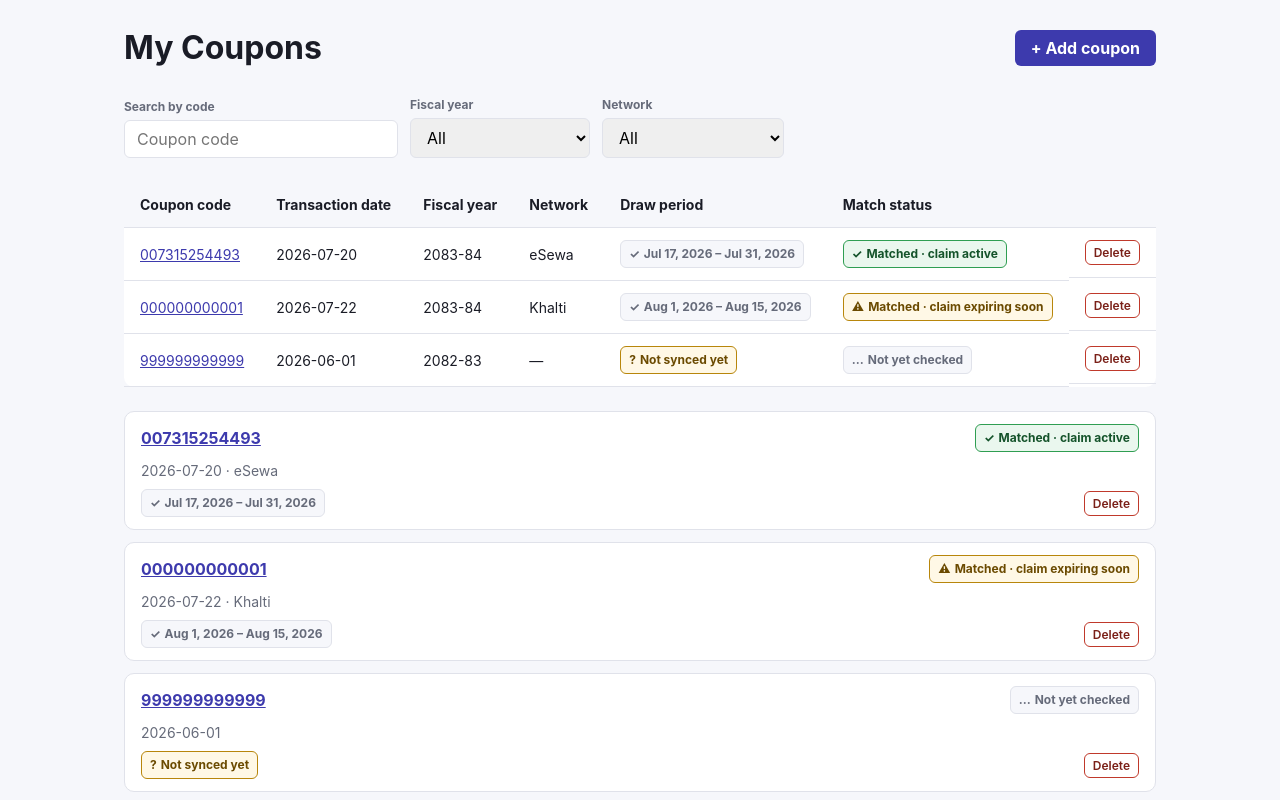
Coupons page › opens the add-coupon modal and adds a new coupon that then appears in the list
Expected: the link "007315254493" below "Coupon code" is shown, x1=140 y1=246 x2=240 y2=262
Click the button "+ Add coupon" at (1085, 48), box x1=1015 y1=30 x2=1156 y2=66
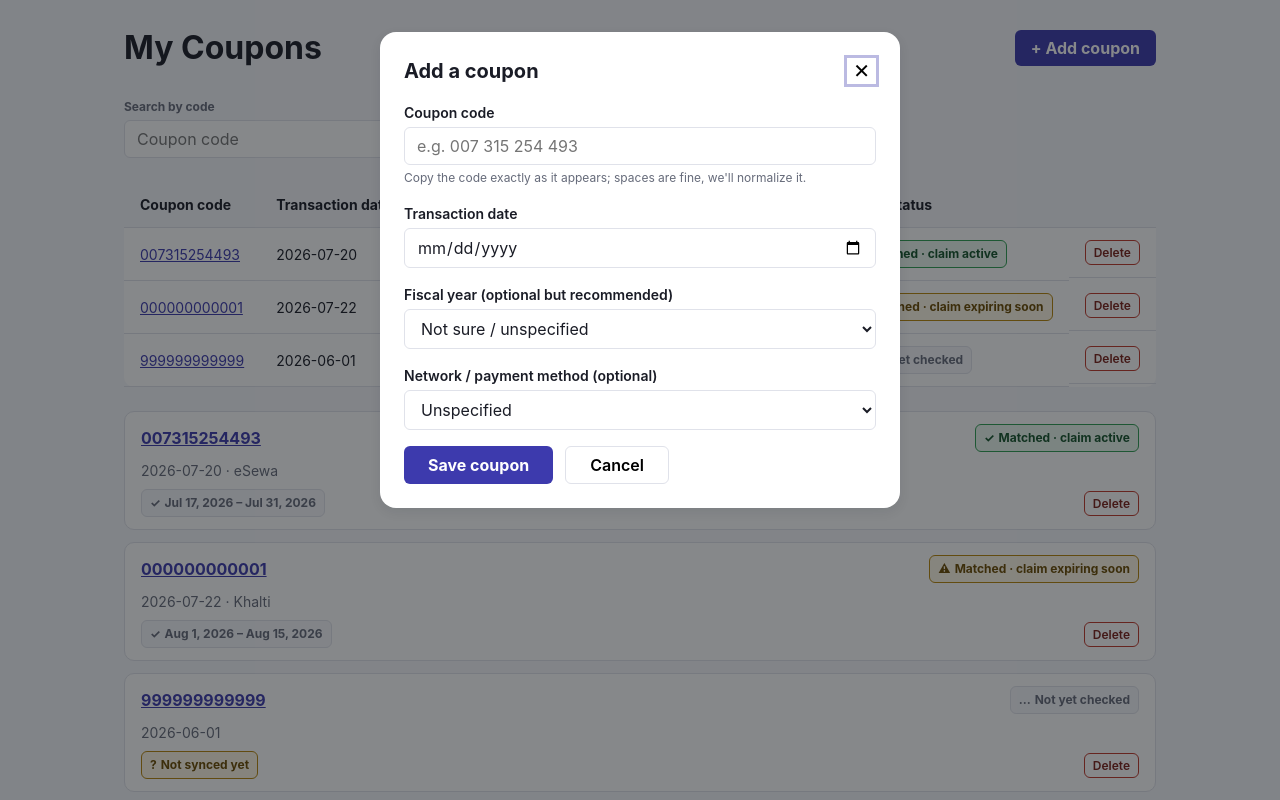
Type "123456789012" into the field labelled "Coupon code" at (640, 146), box x1=404 y1=127 x2=876 y2=165
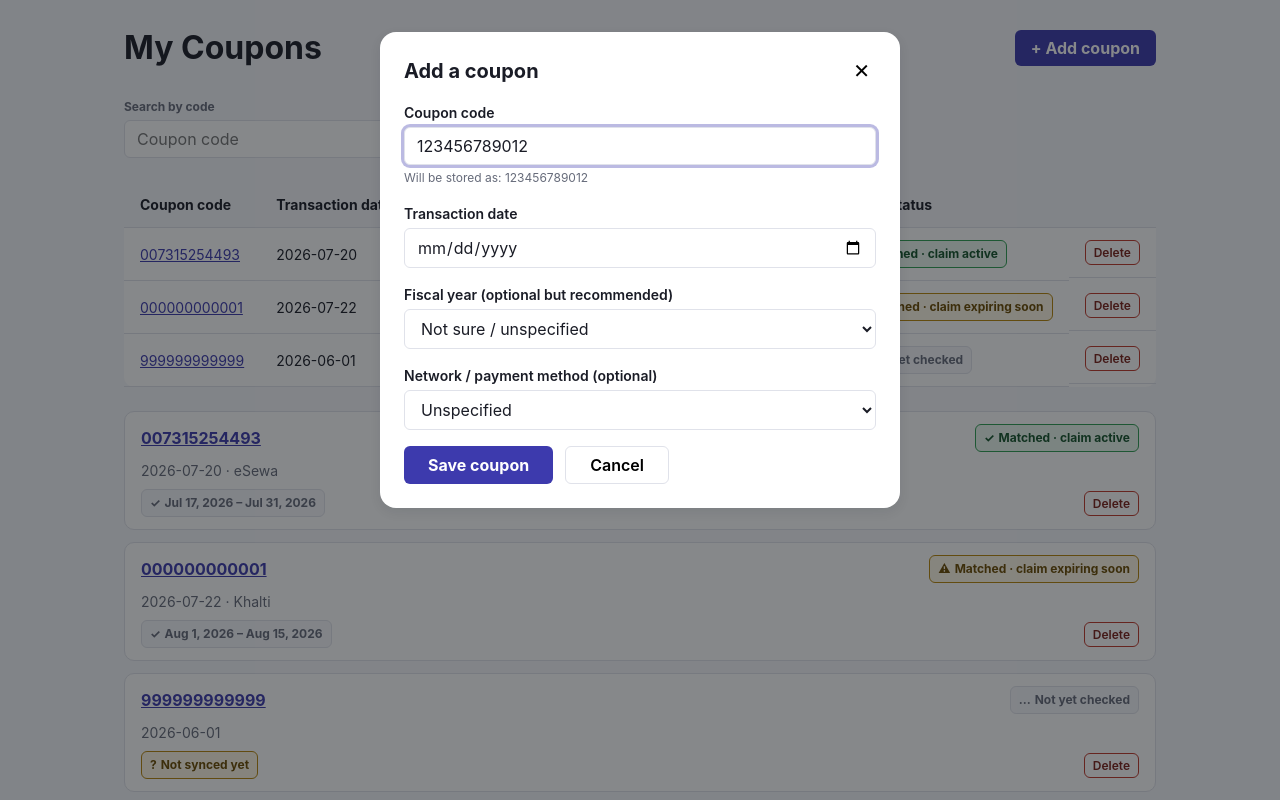
Type "2026-08-01" into the date field labelled "Transaction date" at (640, 248), box x1=404 y1=228 x2=876 y2=268
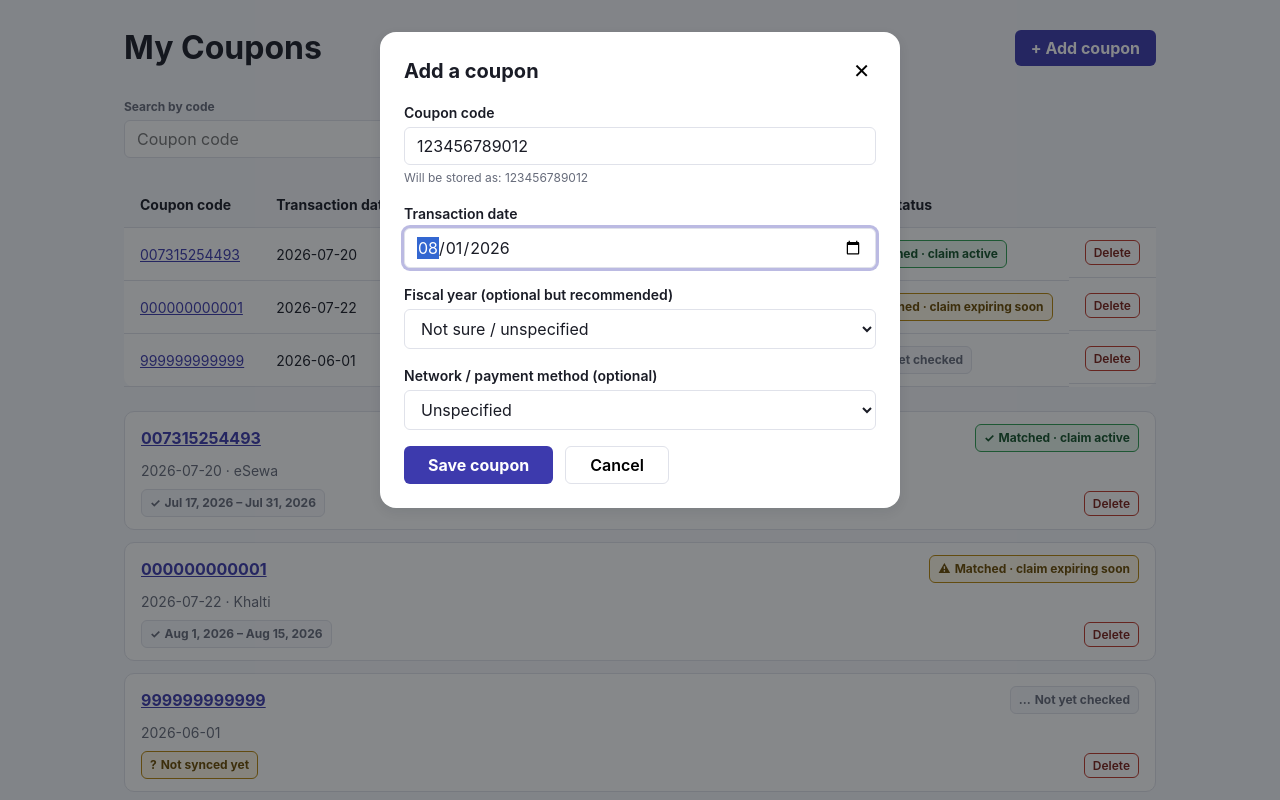
Click the button "Save coupon" at (479, 465), box x1=404 y1=446 x2=553 y2=484
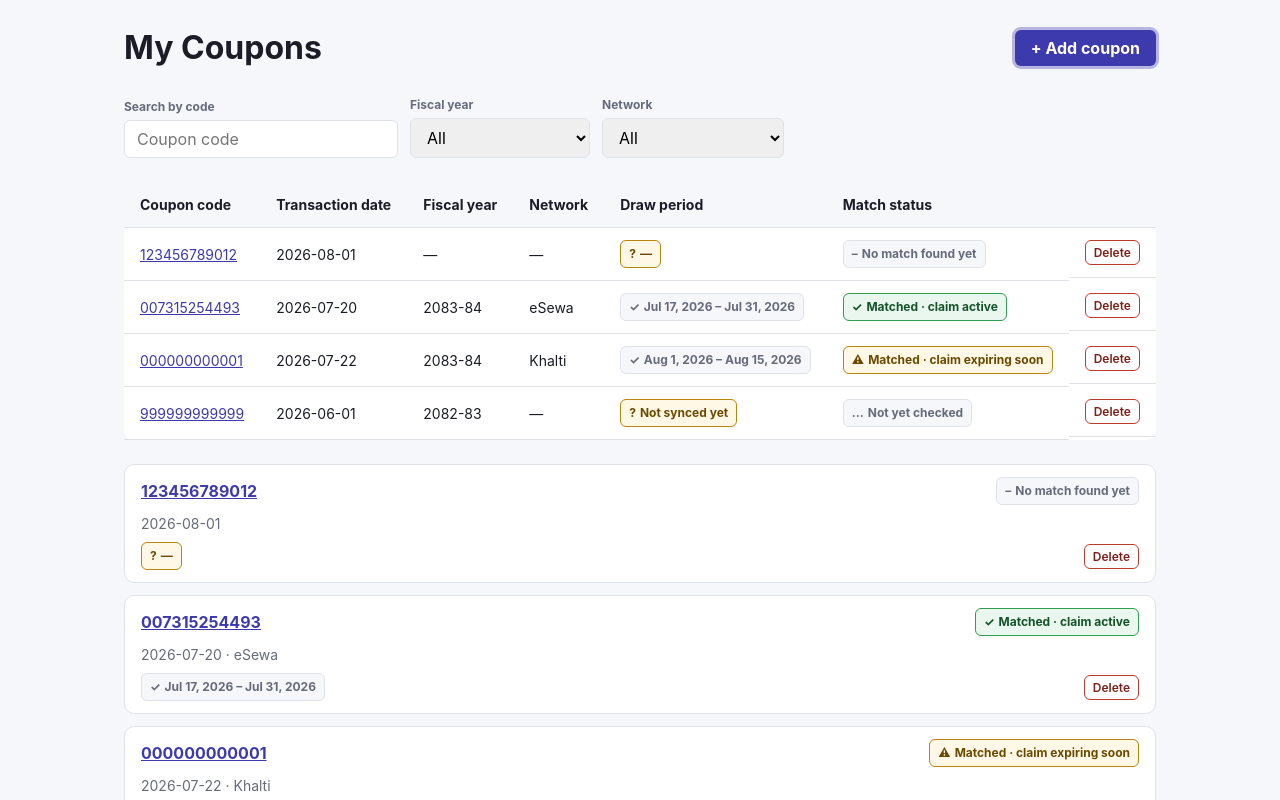
Expected: the heading "Add a coupon" is gone
